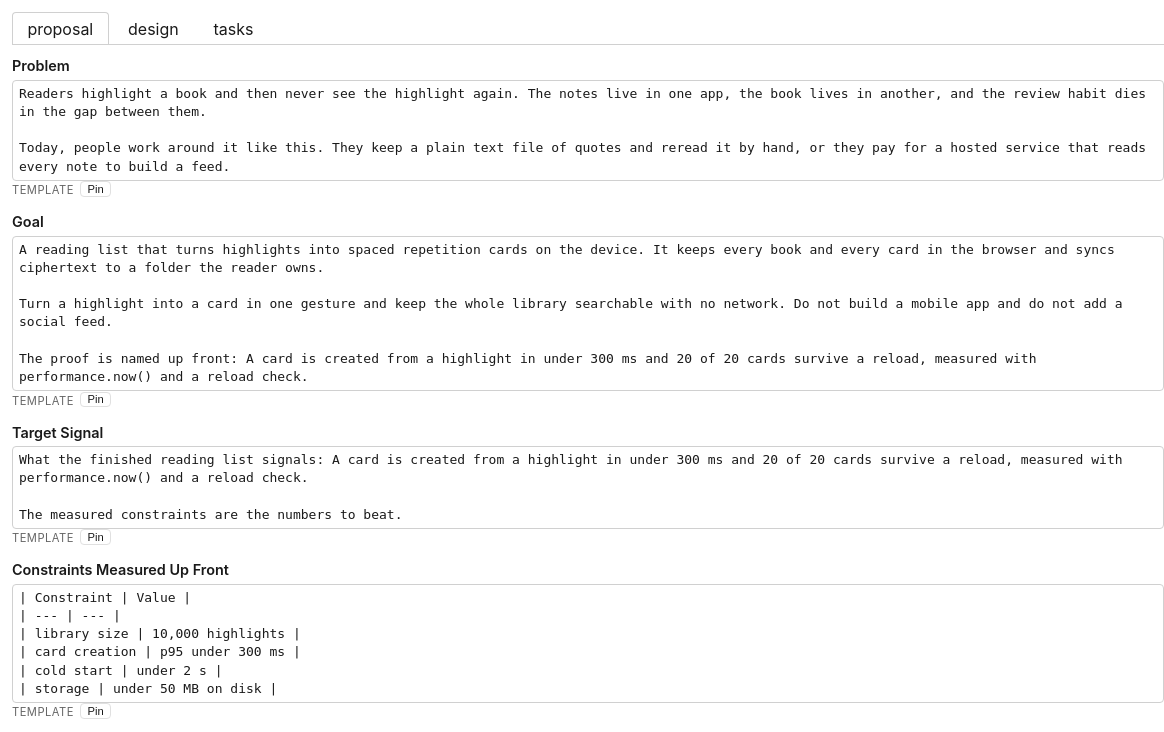
it: OutputTabsComponent › should unpin it again
The image size is (1164, 732).
Click the button with class "lock-toggle" below "Problem": (96, 189) [80, 181, 111, 197]
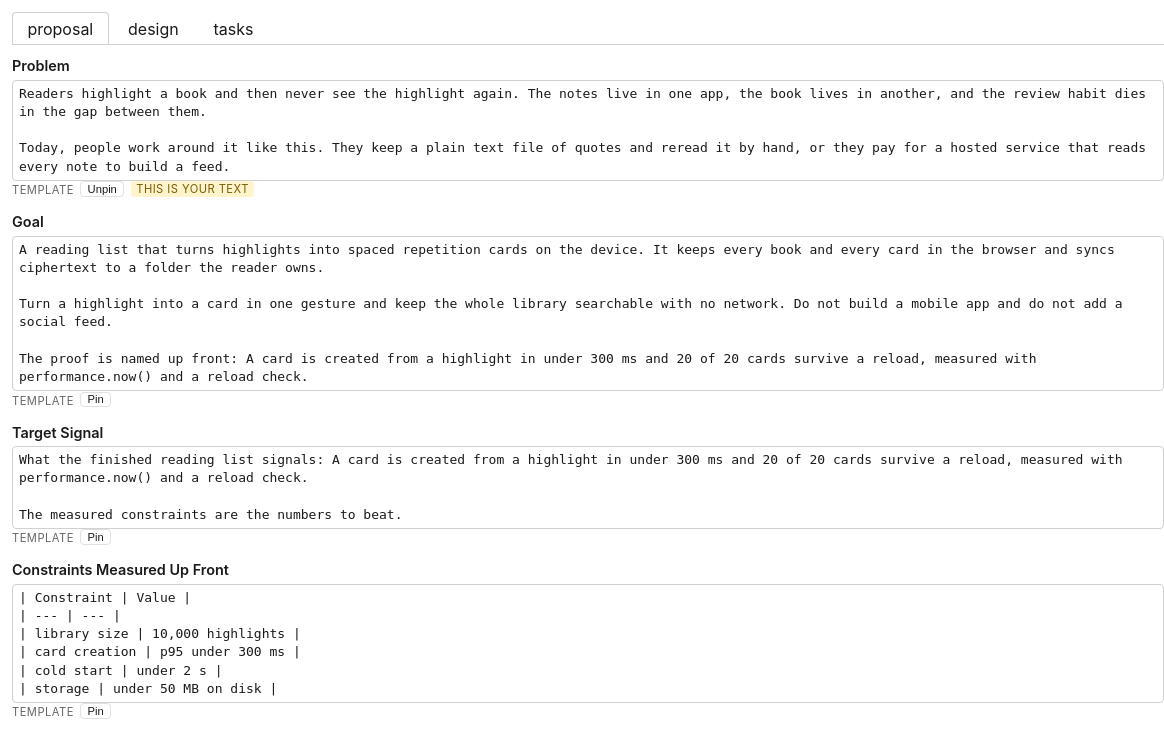
Click the button with class "lock-toggle" showing "Unpin": (102, 189) [80, 181, 124, 197]
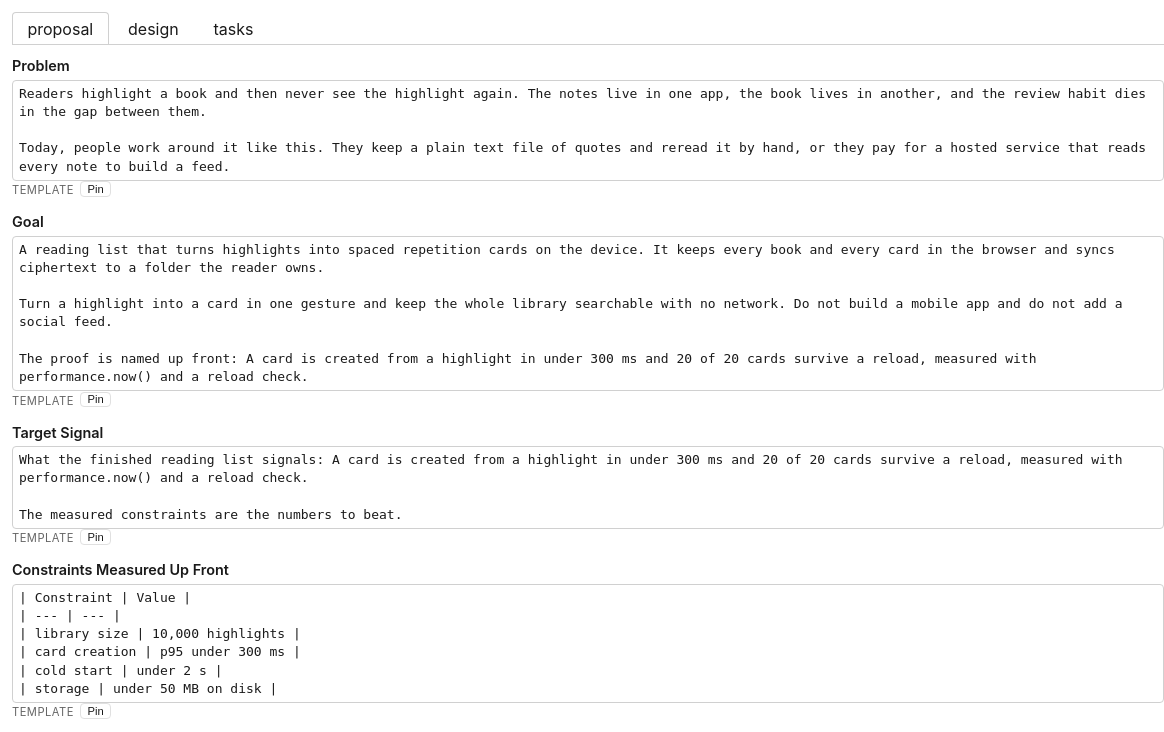
Now the text with class "lock-badge" is gone
